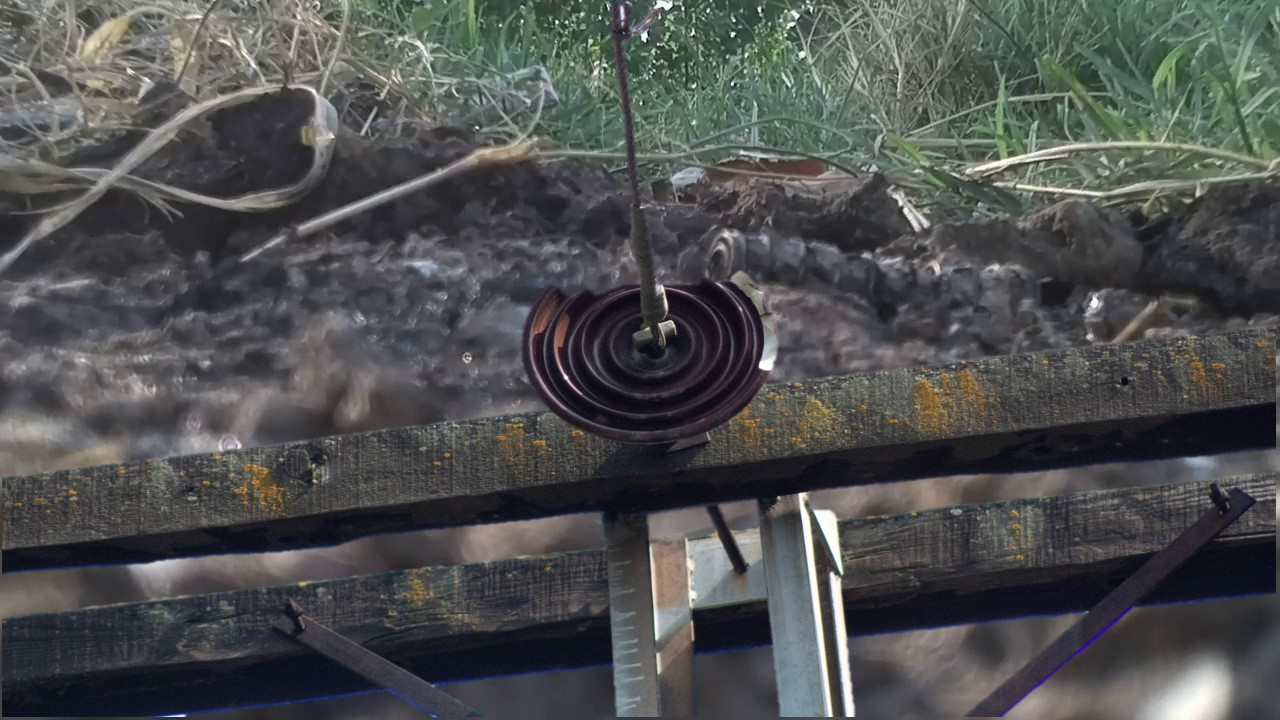defect_disc: (519, 265, 784, 452)
